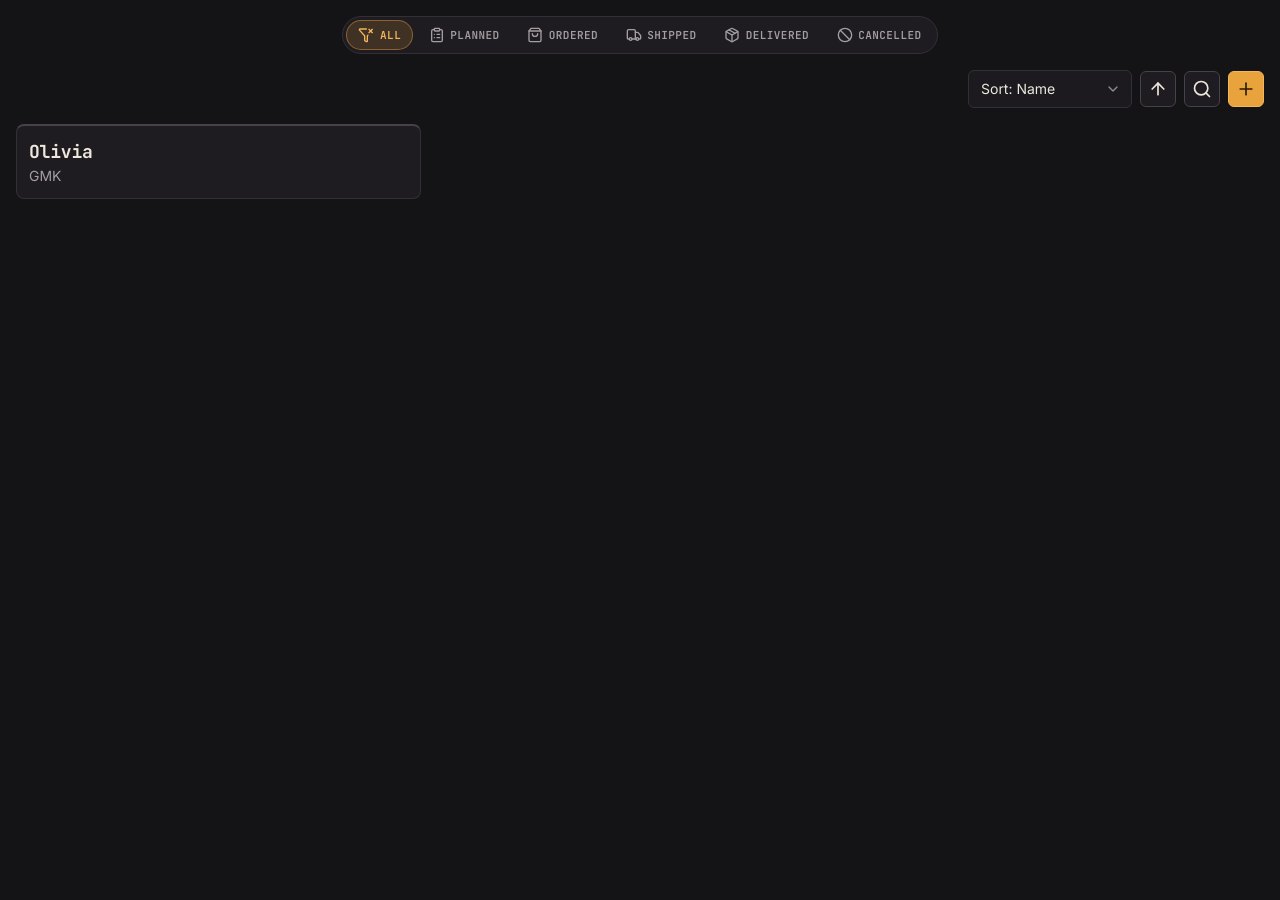
Test: keycap sets page › editing a set › says so when the save fails
Click the button "Olivia GMK" at [61, 152], box [16,124,421,199]
(page scrolled)
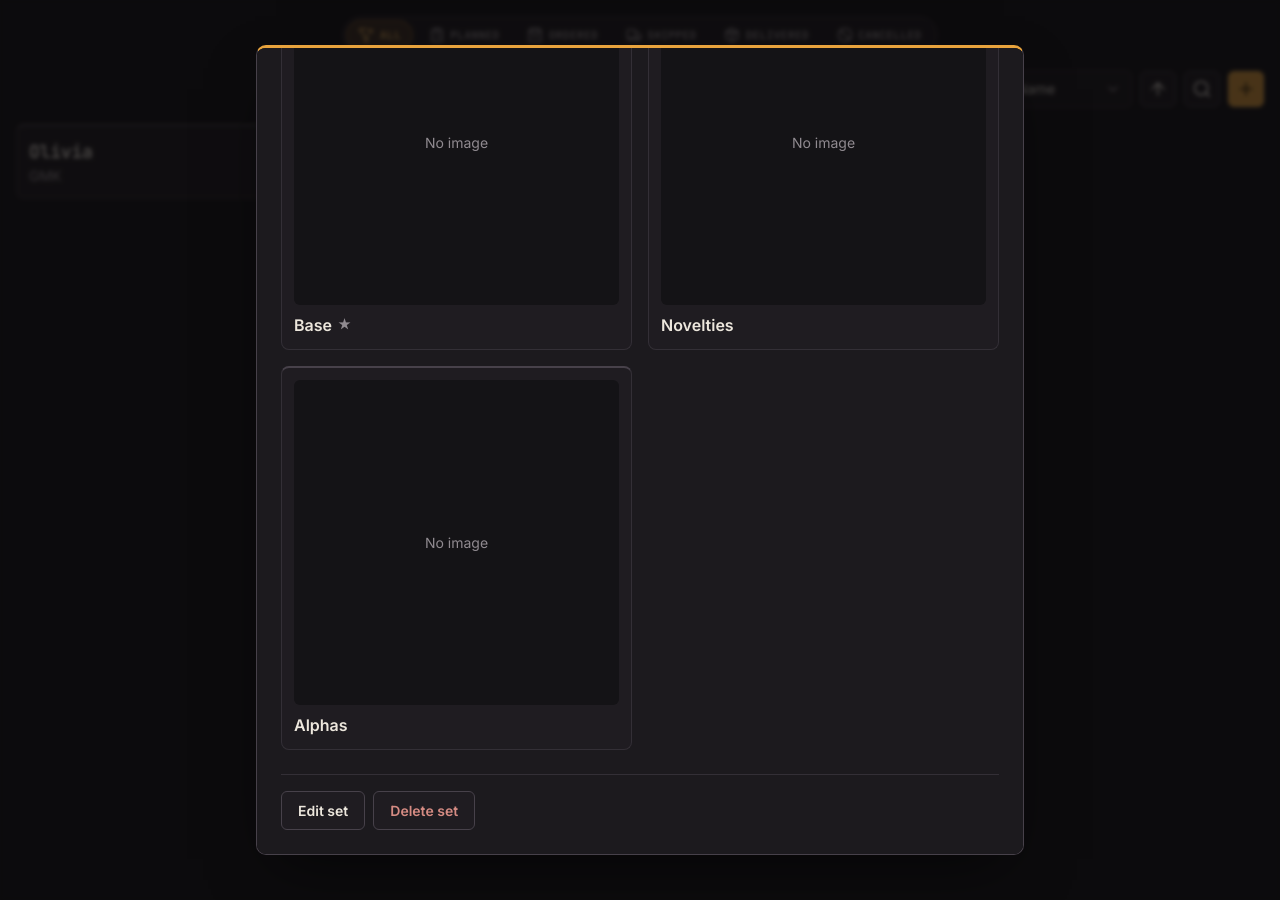
Click the button "Edit set" at [323, 810], box [281,791,365,830]
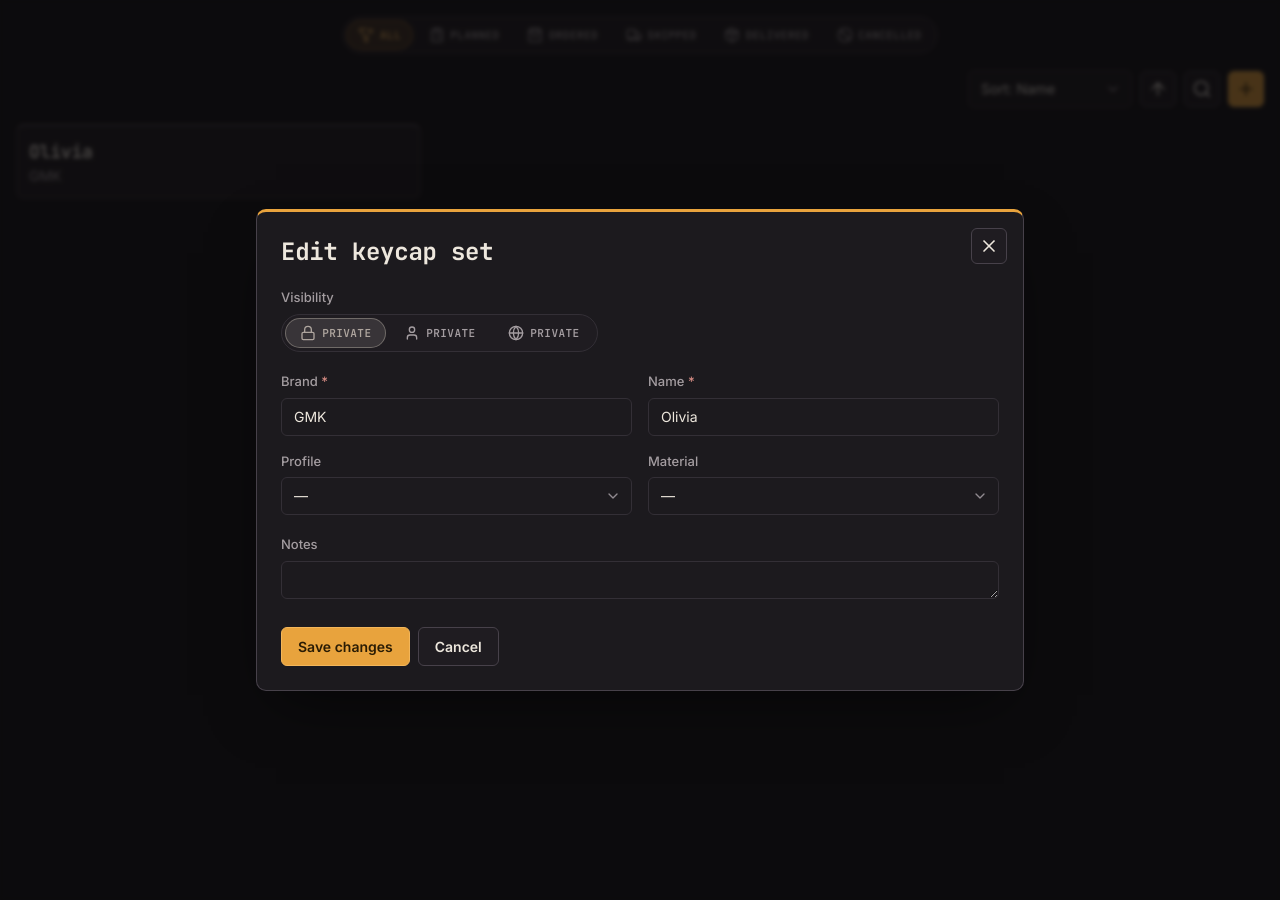
Click the button "Save changes" at [345, 646], box [281,626,410,666]
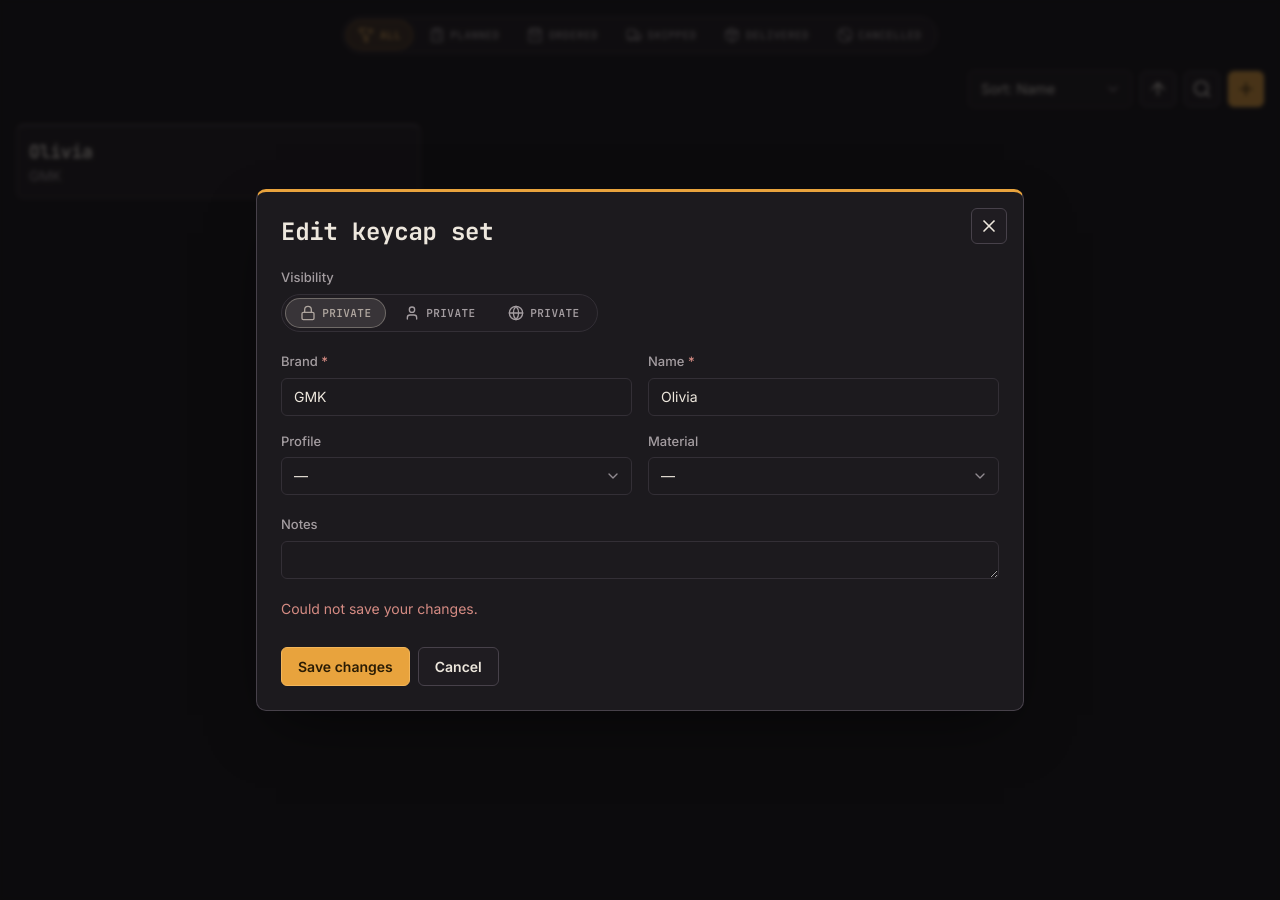
Check: the message "Could not save your changes." is shown, box [281,600,478,616]
